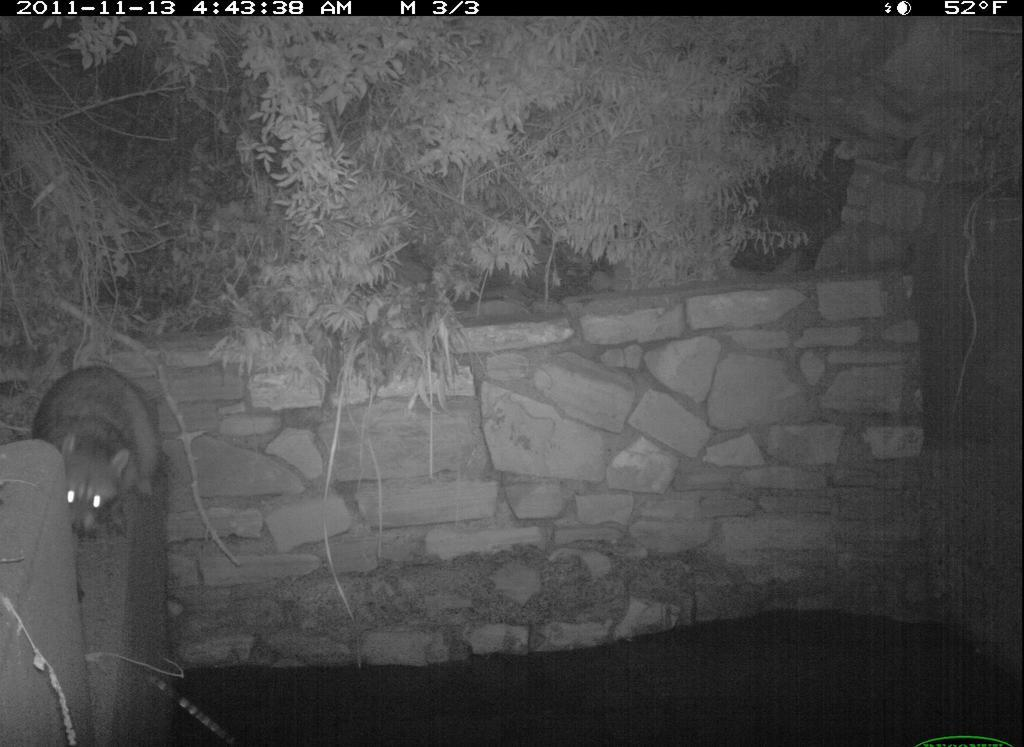raccoon: (26, 354, 175, 556)
